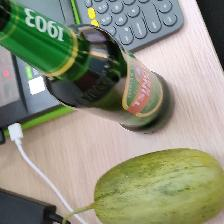gua: (82, 145, 222, 217)
